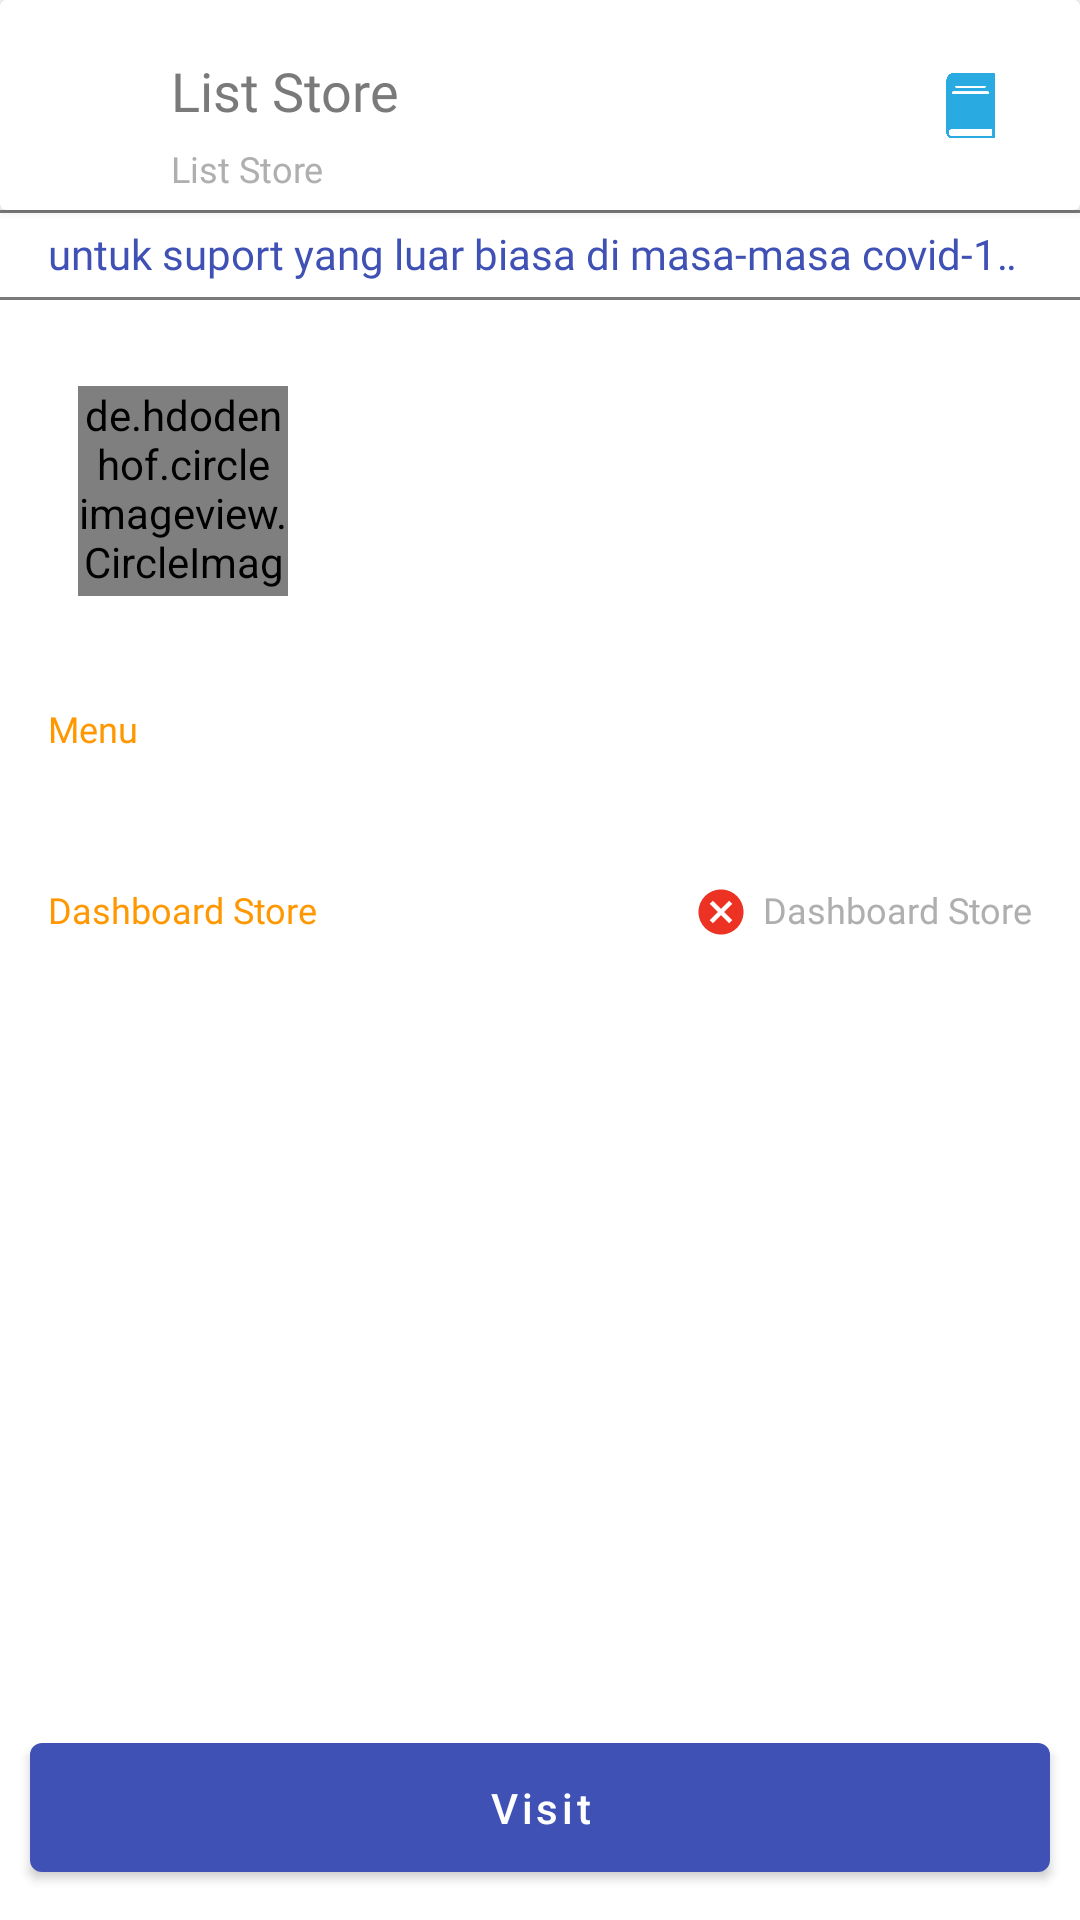

Screen size 1080px x 1920px. Icon name, then its center in pixels as point (x, y):
book: point (970, 105)
cancel: point (721, 912)
